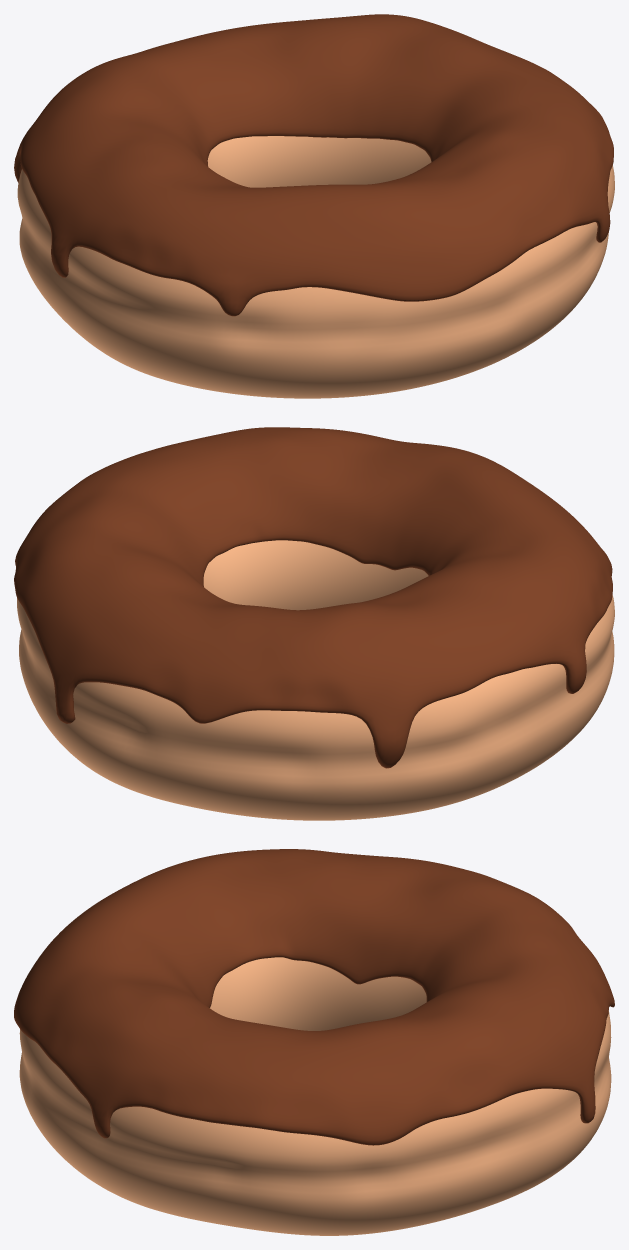
File: DonutWithoutSprinkels.fbx
3 views of the same model, one above another, from view 1: azimuth 30°, elevation 25°; view 2: azimuth 150°, elevation 25°; view 3: azimuth 270°, elevation 25° (orthographic).
Parts seen in each view (by area): view 1: Es, Donat; view 2: Es, Donat; view 3: Es, Donat.
Boxes of the visible parts, x1=… form: Es: x1=14, y1=14, x2=613, y2=316; Donat: x1=17, y1=136, x2=614, y2=398; Es: x1=14, y1=427, x2=612, y2=768; Donat: x1=17, y1=540, x2=614, y2=820; Es: x1=14, y1=849, x2=614, y2=1145; Donat: x1=19, y1=957, x2=611, y2=1235.
Bounding box in the file's own units: 14.96 × 5.49 × 14.58.
